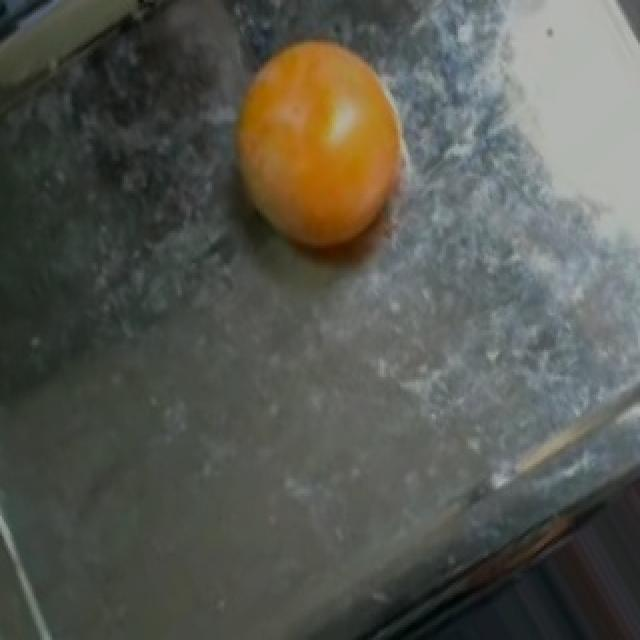Fruit: (208, 20, 430, 270)
